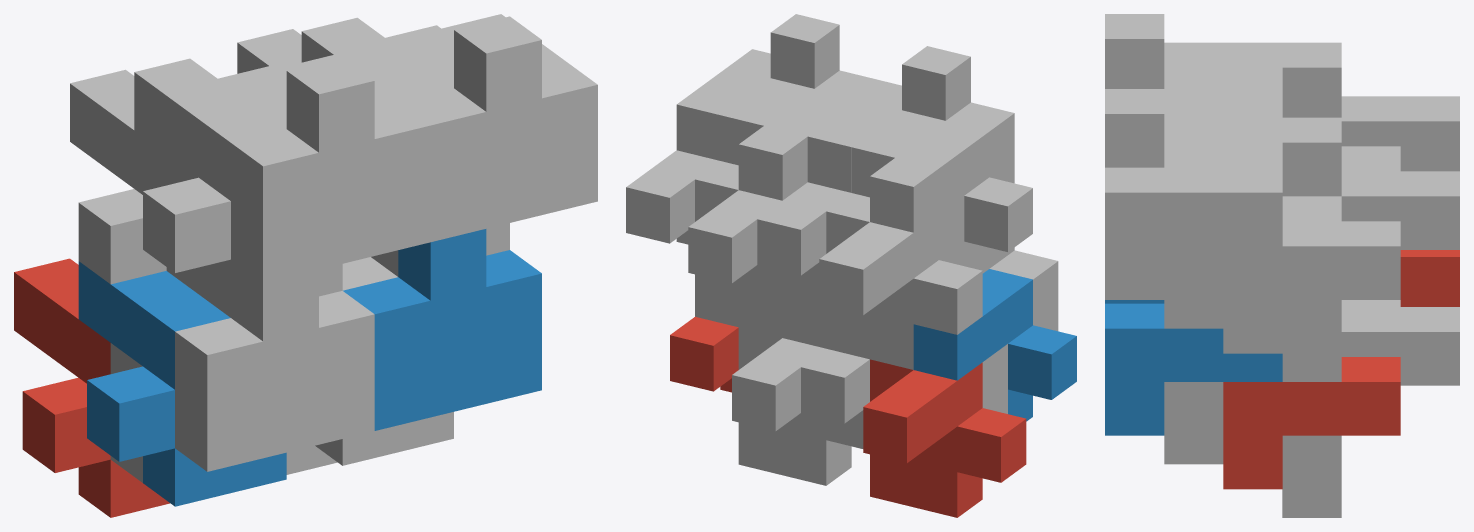
The model's file is tiling.obj.
3 renders of one model, left to right at view 1: azimuth 30°, elevation 25°; view 2: azimuth 150°, elevation 25°; view 3: azimuth 270°, elevation 25°, orthographic. The views are drawn at different scales.
Parts seen in each view (by area): view 1: copy_2_domain_4, copy_2_domain_2, copy_2_domain_8, copy_2_domain_6, copy_1_domain_2, copy_1_domain_4, copy_1_domain_1, copy_1_domain_3, copy_1_domain_8, copy_1_domain_6, copy_2_domain_3, copy_1_domain_7 (+3 smaller); view 2: copy_1_domain_1, copy_1_domain_3, copy_1_domain_4, copy_1_domain_5, copy_1_domain_7, copy_2_domain_4, copy_1_domain_2, copy_2_domain_8, copy_2_domain_3, copy_2_domain_7, copy_1_domain_8, copy_2_domain_1 (+3 smaller); view 3: copy_2_domain_8, copy_2_domain_7, copy_2_domain_5, copy_1_domain_8, copy_1_domain_7, copy_2_domain_6, copy_1_domain_5, copy_1_domain_4, copy_2_domain_4, copy_1_domain_3, copy_1_domain_6, copy_1_domain_1 (+2 smaller).
Part boxes in pixels (x1=…): copy_2_domain_4: x1=231, y1=55, x2=430, y2=282; copy_2_domain_2: x1=175, y1=260, x2=374, y2=471; copy_2_domain_8: x1=399, y1=14, x2=597, y2=241; copy_2_domain_6: x1=343, y1=229, x2=541, y2=430; copy_1_domain_2: x1=78, y1=261, x2=286, y2=506; copy_1_domain_4: x1=134, y1=58, x2=342, y2=317; copy_1_domain_1: x1=14, y1=258, x2=169, y2=517; copy_1_domain_3: x1=70, y1=69, x2=166, y2=284; copy_1_domain_8: x1=301, y1=17, x2=509, y2=276; copy_1_domain_6: x1=315, y1=257, x2=453, y2=465; copy_2_domain_3: x1=166, y1=66, x2=286, y2=293; copy_1_domain_7: x1=237, y1=29, x2=301, y2=73; copy_1_domain_1: x1=863, y1=359, x2=1026, y2=517; copy_1_domain_3: x1=819, y1=193, x2=982, y2=369; copy_1_domain_4: x1=870, y1=110, x2=1032, y2=273; copy_1_domain_5: x1=732, y1=327, x2=863, y2=485; copy_1_domain_7: x1=688, y1=161, x2=819, y2=337; copy_2_domain_4: x1=807, y1=46, x2=1014, y2=192; copy_1_domain_2: x1=913, y1=269, x2=1076, y2=421; copy_2_domain_8: x1=676, y1=14, x2=882, y2=160; copy_2_domain_3: x1=757, y1=129, x2=964, y2=275; copy_2_domain_7: x1=626, y1=96, x2=788, y2=244; copy_1_domain_8: x1=738, y1=78, x2=857, y2=200; copy_2_domain_1: x1=801, y1=344, x2=1007, y2=423; copy_2_domain_8: x1=1105, y1=89, x2=1282, y2=299; copy_2_domain_7: x1=1223, y1=142, x2=1400, y2=353; copy_2_domain_5: x1=1223, y1=357, x2=1400, y2=489; copy_1_domain_8: x1=1164, y1=117, x2=1341, y2=328; copy_1_domain_7: x1=1282, y1=171, x2=1459, y2=381; copy_2_domain_6: x1=1105, y1=300, x2=1282, y2=435; copy_1_domain_5: x1=1282, y1=307, x2=1459, y2=517; copy_1_domain_4: x1=1164, y1=42, x2=1341, y2=117; copy_2_domain_4: x1=1105, y1=14, x2=1282, y2=117; copy_1_domain_3: x1=1341, y1=96, x2=1459, y2=171; copy_1_domain_6: x1=1164, y1=382, x2=1223, y2=464; copy_1_domain_1: x1=1400, y1=250, x2=1459, y2=306.
Bounding box in the file's own units: 8 × 8 × 6.
